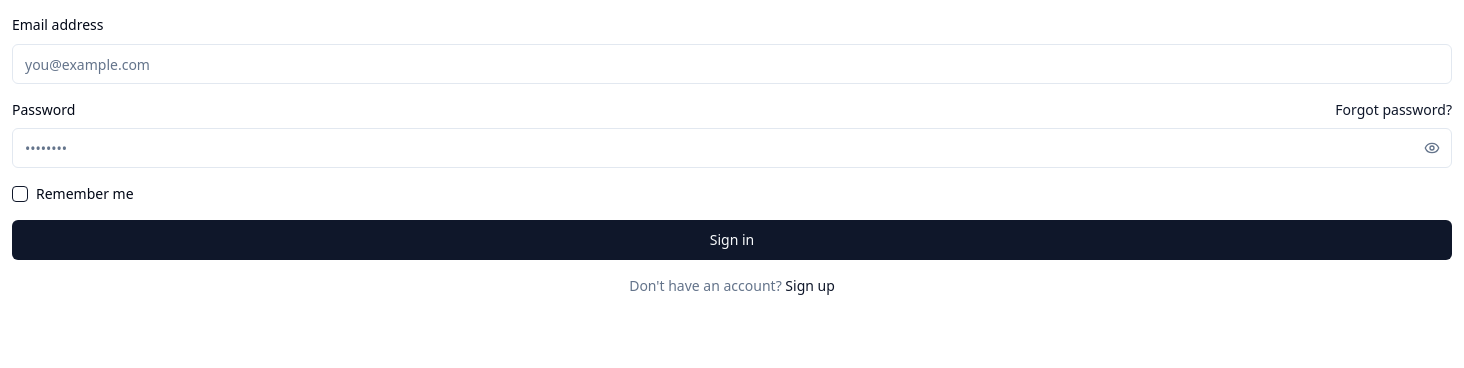
Test: LoginForm › Validation › should show error for invalid email format
The image size is (1464, 368).
In the field labelled "Email address": (732, 64) [12,44,1452,84], type "invalid-email"
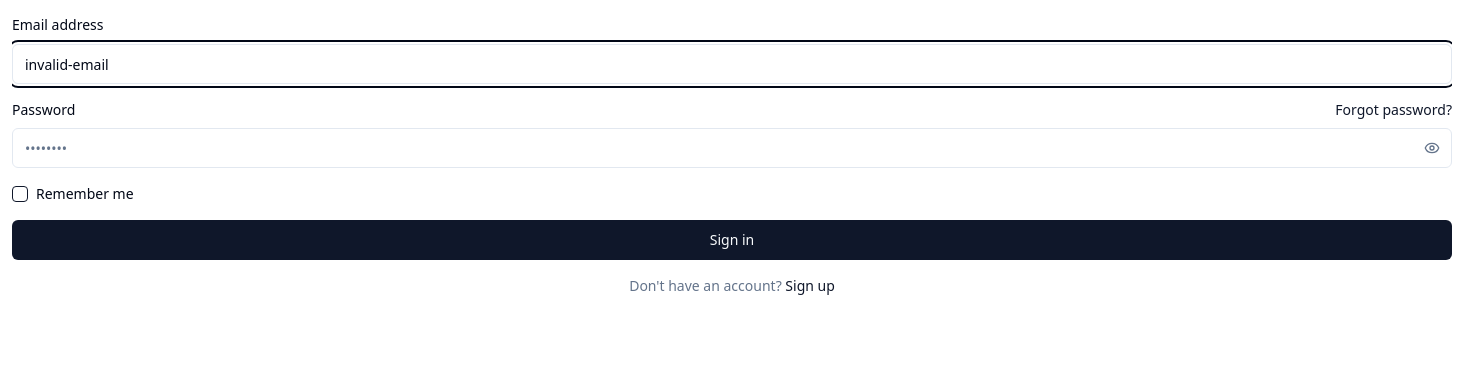
Click the button "Sign in": (732, 240) [12,220,1452,260]
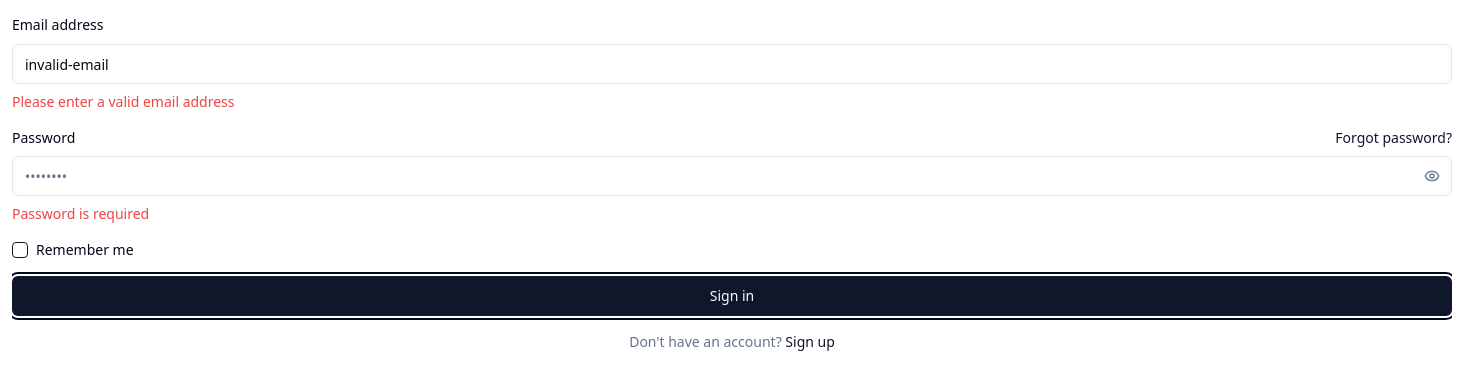
Result: the text "Please enter a valid email address" is shown at [12,92,234,111]
